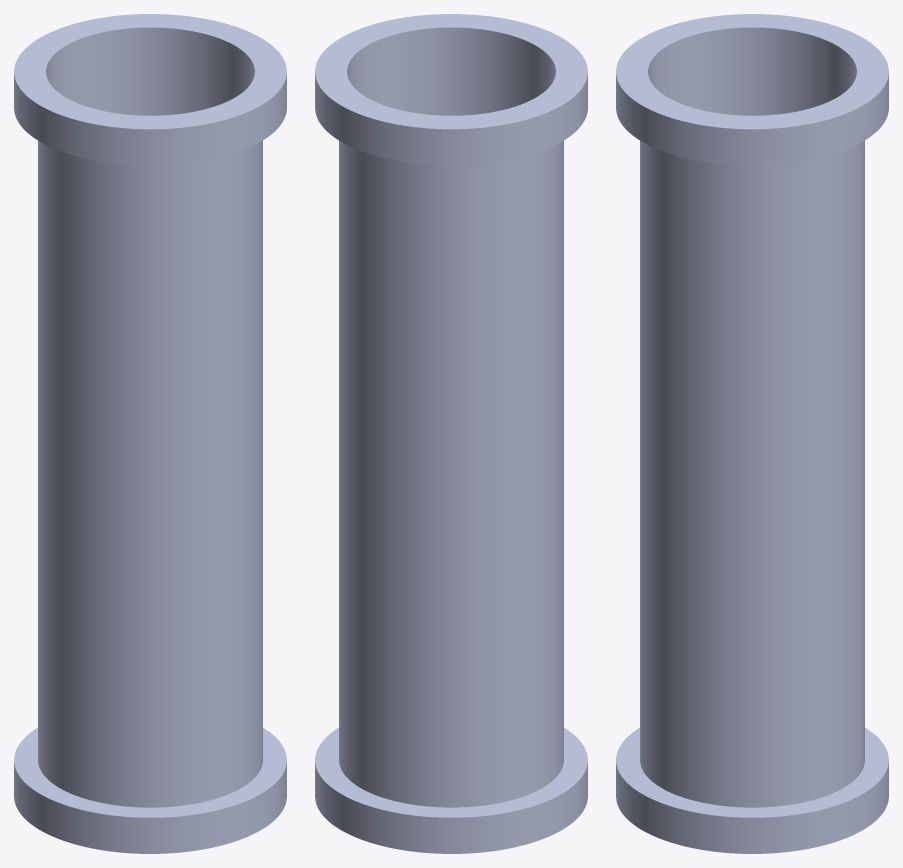
3 renders of one model, left to right at view 1: azimuth 30°, elevation 25°; view 2: azimuth 150°, elevation 25°; view 3: azimuth 270°, elevation 25°, orthographic.
Visible parts, largest first — view 1: Boss.-Extru.5; view 2: Boss.-Extru.5; view 3: Boss.-Extru.5.
Part boxes in pixels (x1,y1,x2,y2): Boss.-Extru.5: (14, 14, 286, 853); Boss.-Extru.5: (315, 14, 587, 853); Boss.-Extru.5: (616, 14, 888, 853).
Size of the model in its own units: 1.34 by 3.94 by 1.34.
